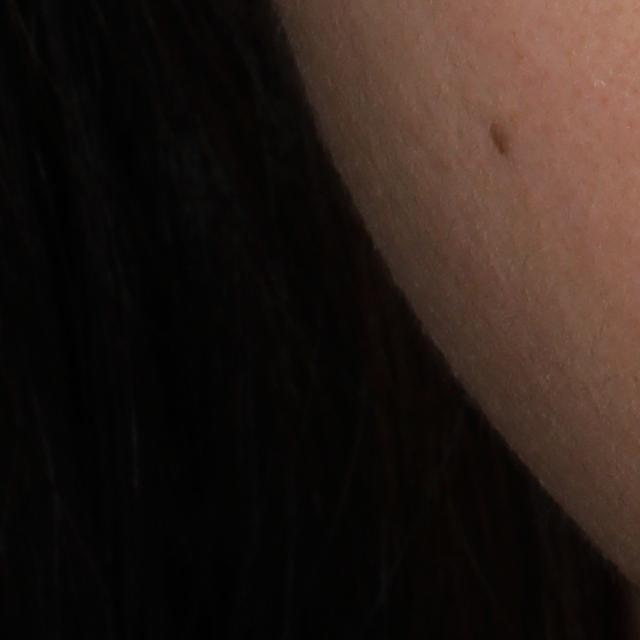nevus: (484, 121, 515, 165)
